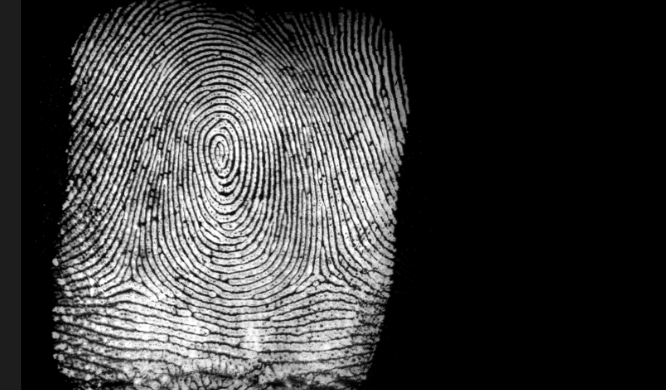deltas: (107, 247, 159, 302), (295, 246, 342, 300)
nucleo: (200, 121, 241, 176)
